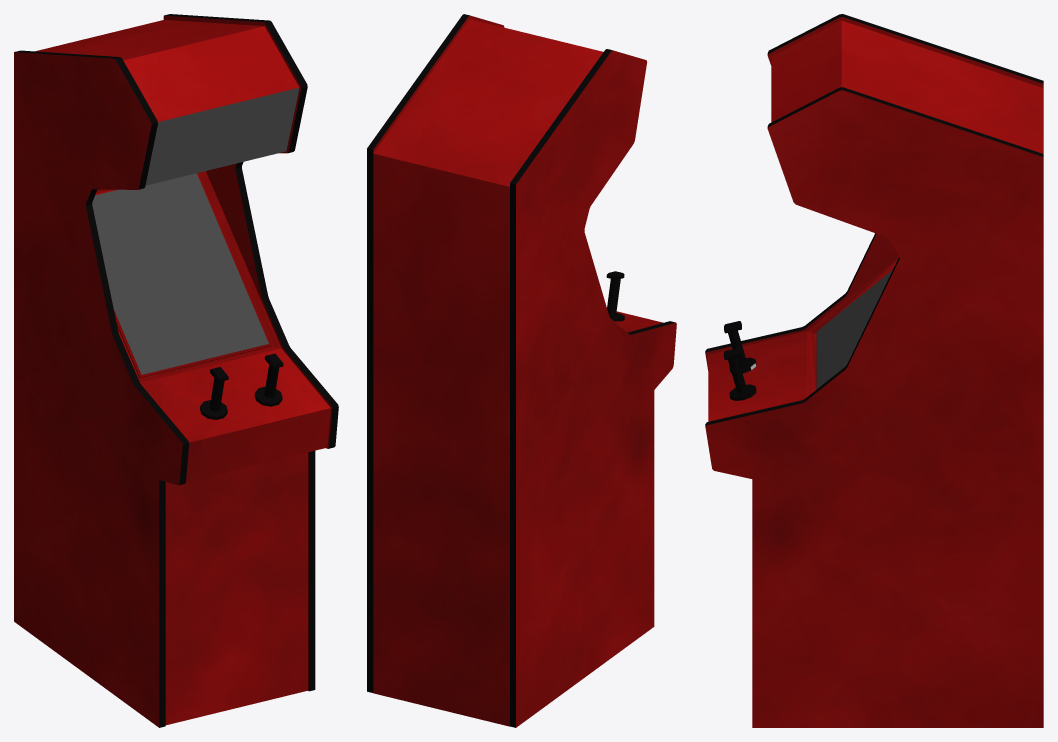
File: Assault04.fbx
3 views of the same model, side by side, from view 1: azimuth 30°, elevation 25°; view 2: azimuth 150°, elevation 25°; view 3: azimuth 270°, elevation 25° (orthographic). The views are drawn at different scales.
Parts seen in each view (by area): view 1: polySurface5; view 2: polySurface5; view 3: polySurface5.
Part boxes in pixels (x1,y1,x2,y2): polySurface5: (14, 14, 338, 727); polySurface5: (367, 14, 676, 727); polySurface5: (705, 14, 1043, 727).
Size of the model in its own units: 103 by 401 by 192.
5 materials, 1 textured.
